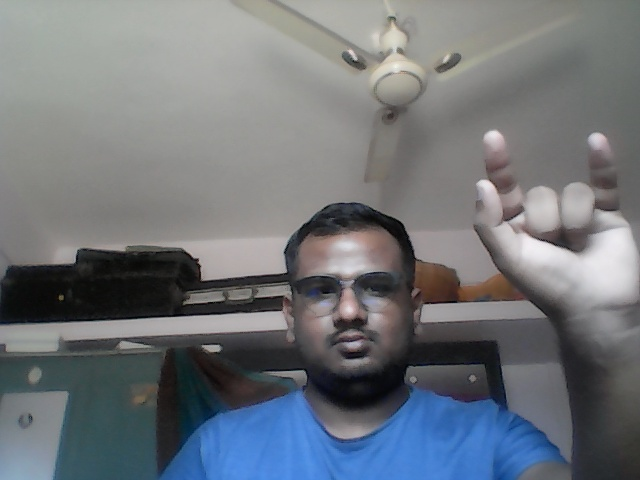I Love You: (471, 129, 640, 314)
